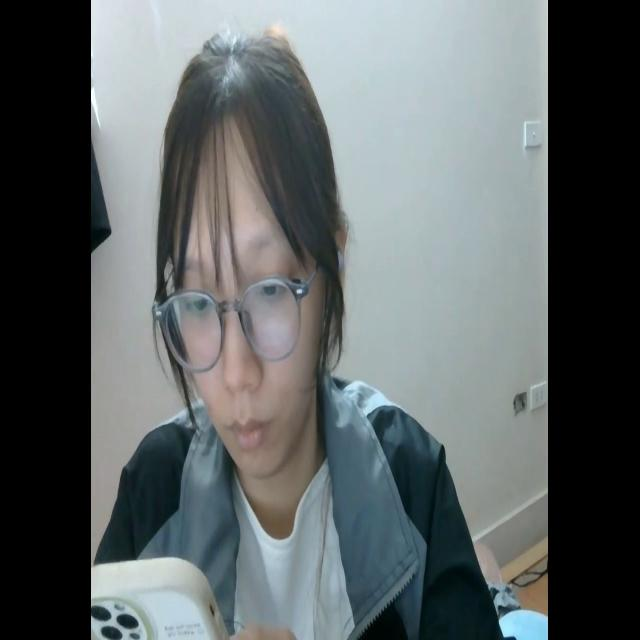phone: (92, 553, 228, 640)
student: (96, 21, 503, 640)
